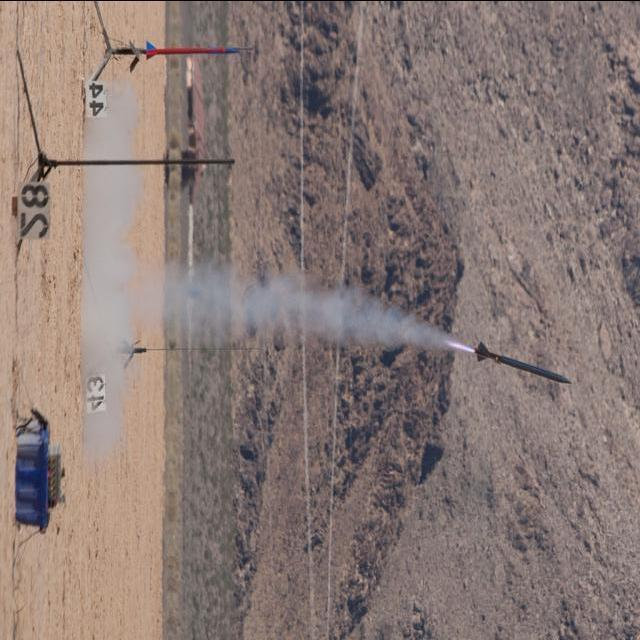missile: (470, 340, 577, 394)
